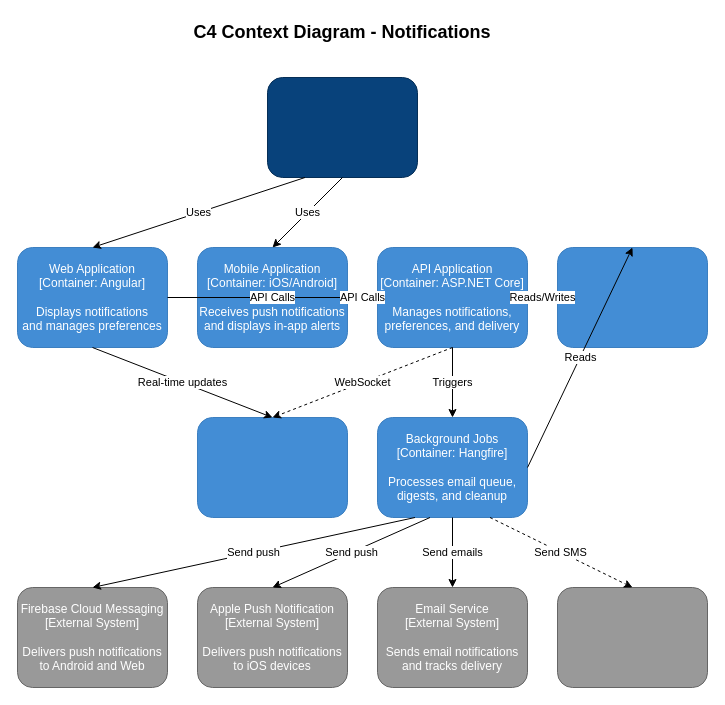
The diagram is 725 pixels wide and 705 high, and some of its shapes have lost their labels. Here are the shapes that lost their labels. From the top down, the centre of each, then its label:
At pixel 342 127: "User [Person] A user who receives notifications about platform activities".
At pixel 632 297: "Database [Container: SQL Server] Stores notifications, preferences, and tokens".
At pixel 272 467: "WebSocket Service [Container: SignalR] Sends real-time notification updates".
At pixel 632 637: "SMS Service [External System] Sends SMS notifications (optional)".
